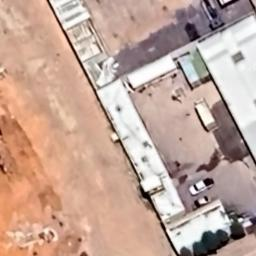sedan: (192, 197, 212, 213)
van: (186, 174, 217, 196)
